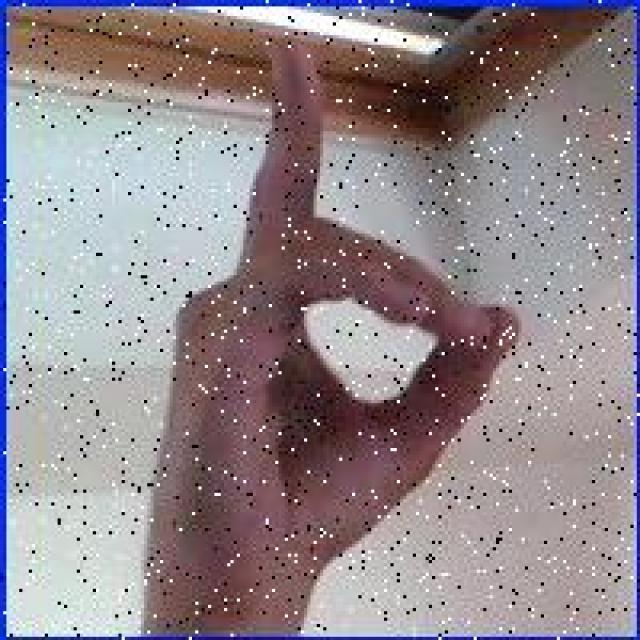D: (152, 26, 530, 595)
